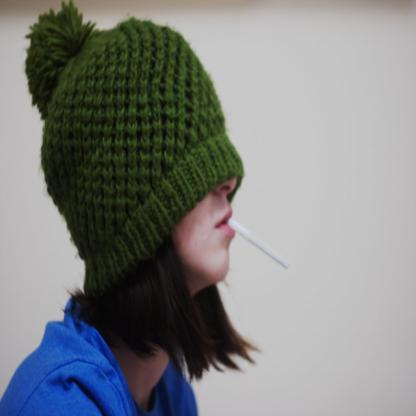smoking: (221, 213, 290, 269)
